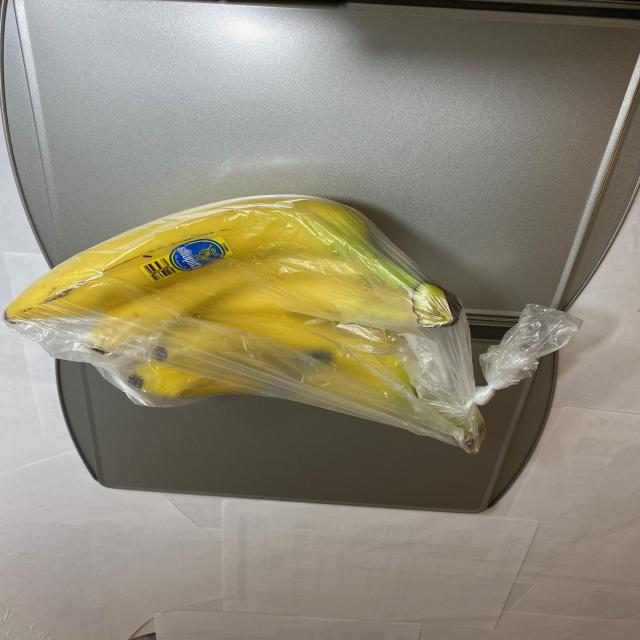banana: (2, 191, 508, 453)
